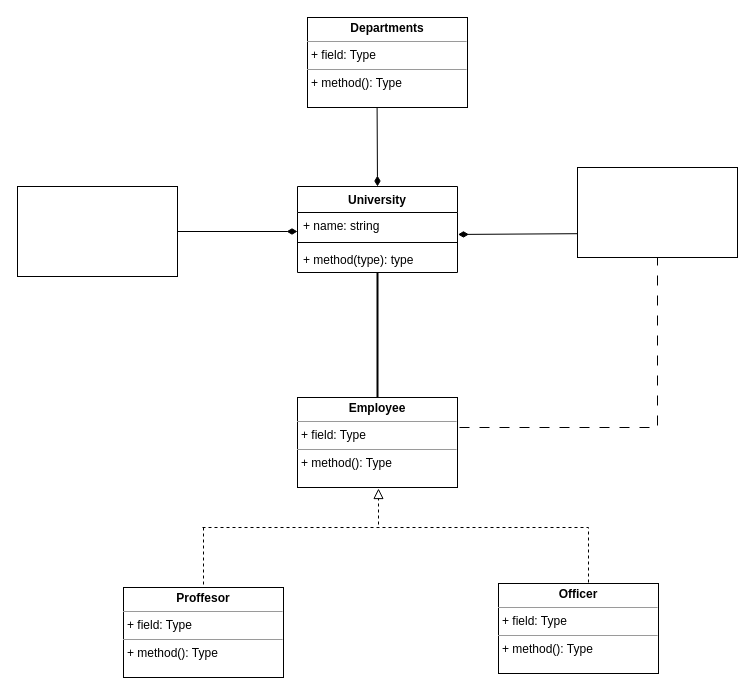
The diagram is 755 pixels wide and 695 high, and some of its shapes have lost their labels. Here are the shapes that lost their labels. From the top down, the box of each, then its label:
(16, 186, 178, 276): Classes + field: Type + method(): Type
(576, 166, 738, 258): Offices + field: Type + method(): Type
